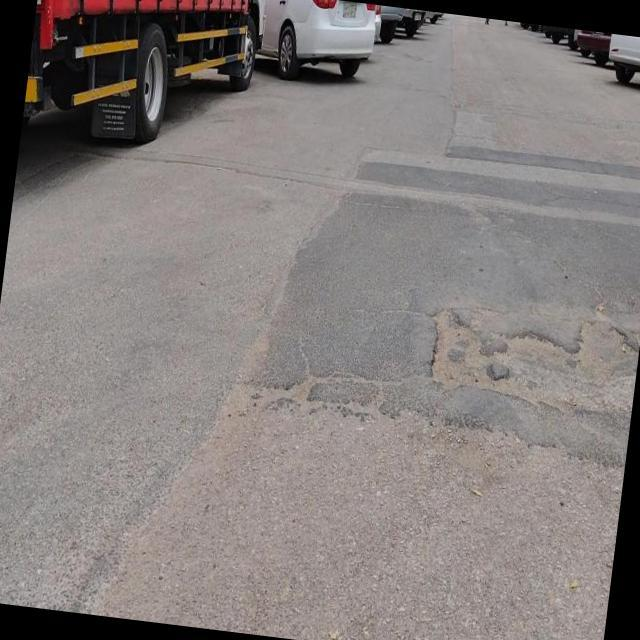Pothole: (428, 302, 511, 399), (503, 330, 580, 415)
